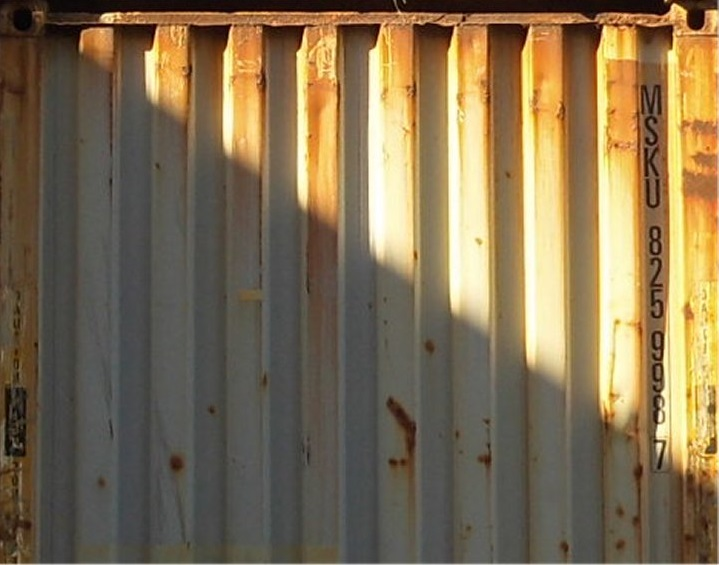container_no_door: (1, 2, 710, 565)
